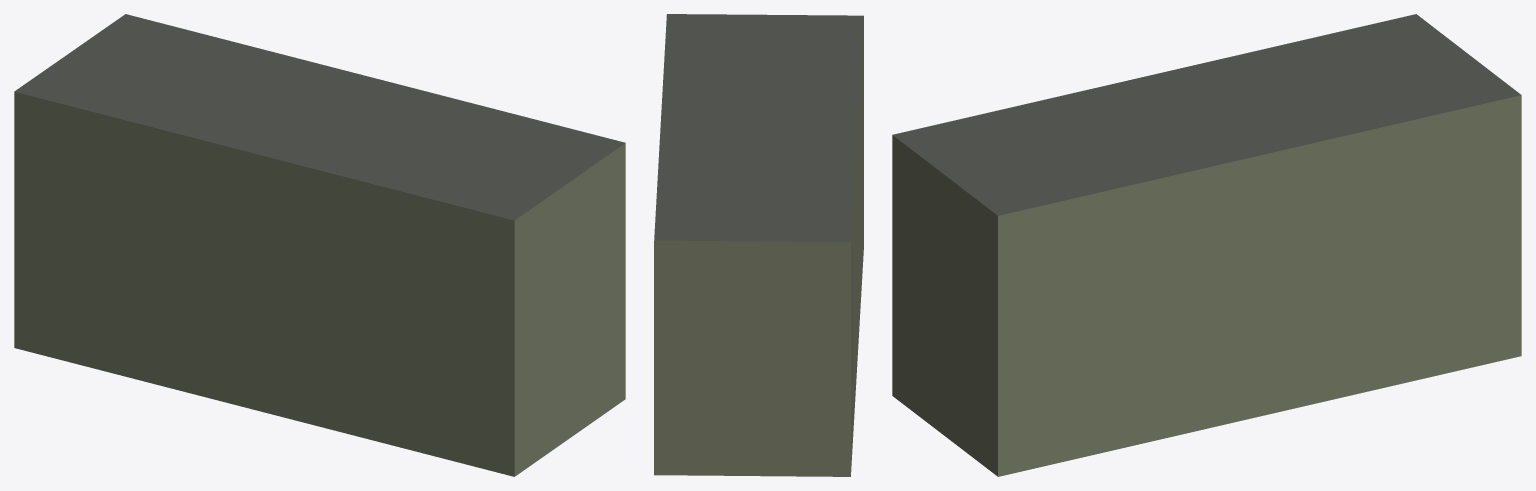
The model's file is nyc-1022621-0.glb.
The picture shows the model from 3 angles, left to right: view 1: azimuth 30°, elevation 25°; view 2: azimuth 150°, elevation 25°; view 3: azimuth 270°, elevation 25°; orthographic projection. The views are drawn at different scales.
Visible parts, largest first — view 1: nyc-1022621-0; view 2: nyc-1022621-0; view 3: nyc-1022621-0.
Boxes of the visible parts, <box> form: nyc-1022621-0: <box>14,14,625,476</box>; nyc-1022621-0: <box>654,14,863,476</box>; nyc-1022621-0: <box>892,14,1521,476</box>.
Bounding box in the file's own units: 27.09 × 16.33 × 35.68.
